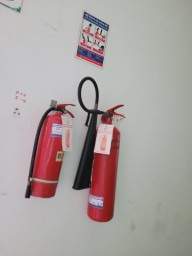fire_extinguisher: (43, 32, 117, 101), (25, 115, 113, 166)
